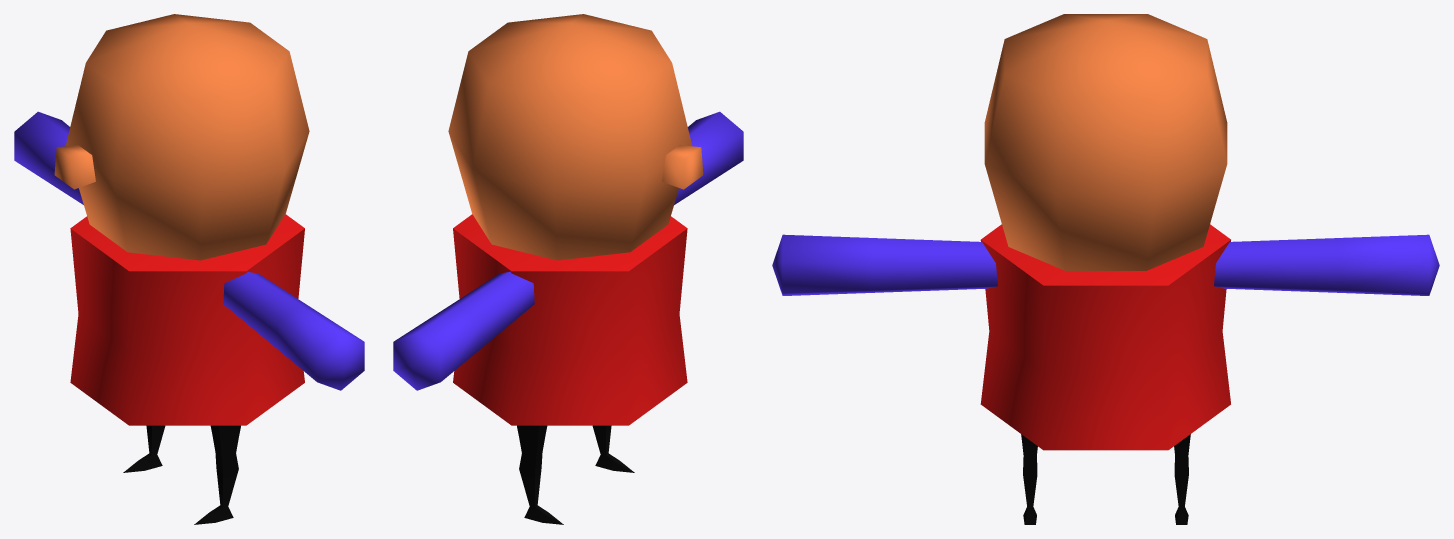
Rendered from khach.FBX.
The picture shows the model from 3 angles, left to right: view 1: azimuth 30°, elevation 25°; view 2: azimuth 150°, elevation 25°; view 3: azimuth 270°, elevation 25°; orthographic projection. The views are drawn at different scales.
Parts seen in each view (by area): view 1: Object377; view 2: Object377; view 3: Object377.
Boxes of the visible parts, x1=… form: Object377: x1=14, y1=14, x2=364, y2=524; Object377: x1=393, y1=14, x2=743, y2=524; Object377: x1=772, y1=14, x2=1439, y2=524.
Size of the model in its own units: 1.04 by 2.1 by 2.55.
